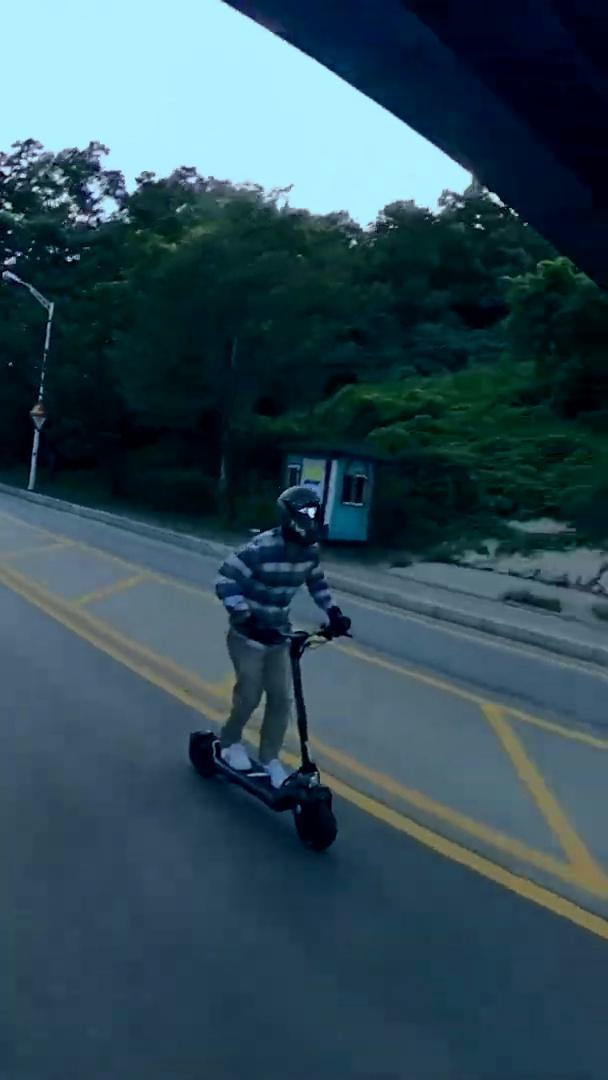helmet: (183, 486, 356, 856)
